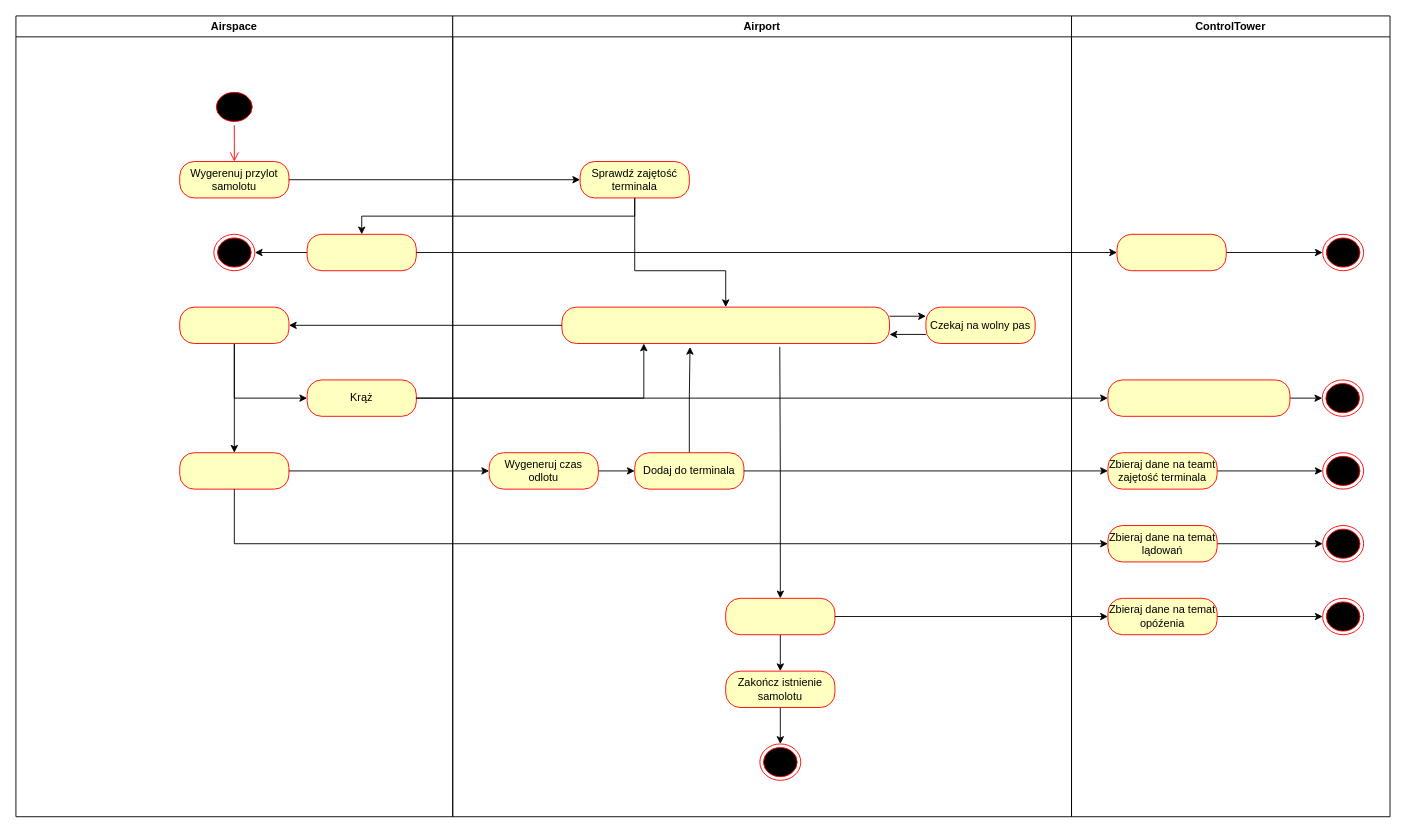
The diagram is 1406 pixels wide and 833 high, and some of its shapes have lost their labels. Each missing label, with the centre of its shape:
Ląduj: pixel 234 470
Przeieruj na inne lotnisko: pixel 361 252
Sprawdź dostępność pasa startowego: pixel 725 325
Sprawdź stan paliwa: pixel 234 325
Startuj: pixel 780 616
Zbieraj dane na temat przekierowanych samolotów: pixel 1171 252
Zbieraj dane na temat samolotów oczekujących na łądowanie: pixel 1198 397
